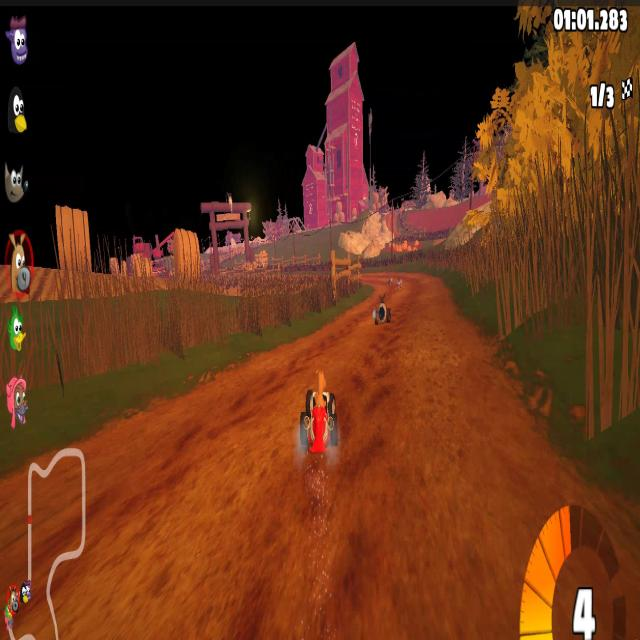player_kart: (293, 378, 343, 468)
track: (100, 452, 523, 640), (354, 342, 521, 457), (178, 396, 286, 454), (392, 297, 465, 333), (233, 359, 289, 395), (366, 268, 444, 288), (295, 342, 353, 364), (330, 324, 372, 338), (354, 309, 372, 324)
